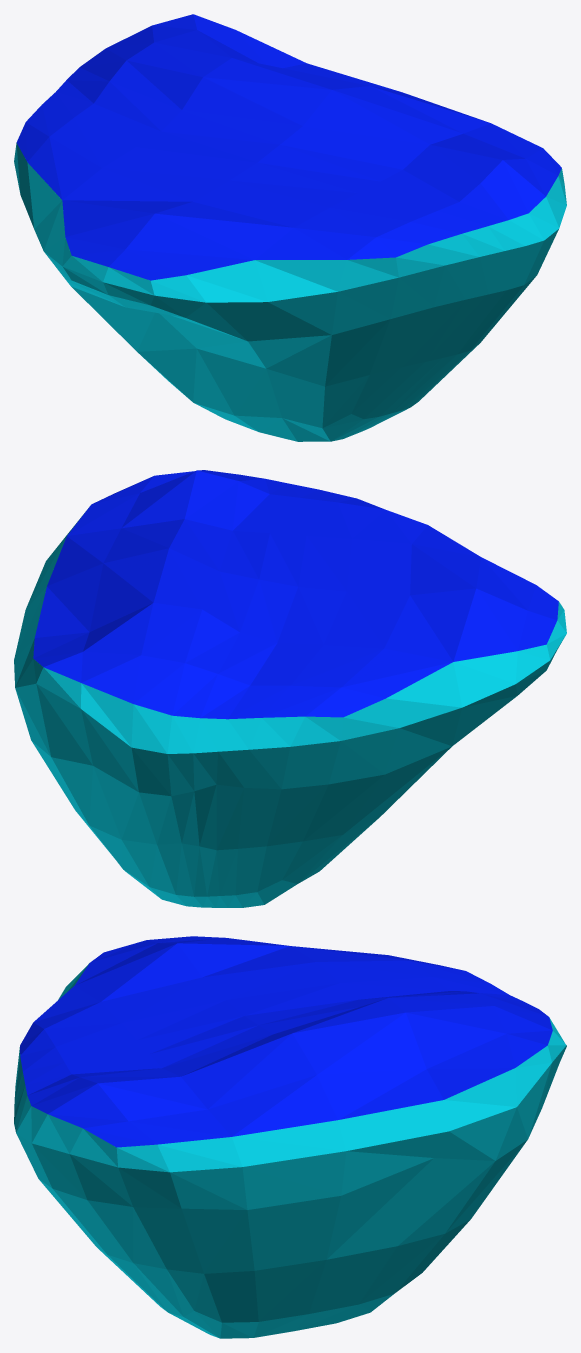
The model's file is roadmap_island.glb.
The picture shows the model from 3 angles, top to bottom: view 1: azimuth 30°, elevation 25°; view 2: azimuth 150°, elevation 25°; view 3: azimuth 270°, elevation 25°; orthographic projection. The views are drawn at different scales.
Visible parts, largest first — view 1: Cube.004; view 2: Cube.004; view 3: Cube.004.
Part boxes in pixels (x1,y1,x2,y2): Cube.004: (14,14,566,441); Cube.004: (14,470,566,907); Cube.004: (14,936,566,1338).
Bounding box in the file's own units: 3.69 × 2.31 × 3.81.
